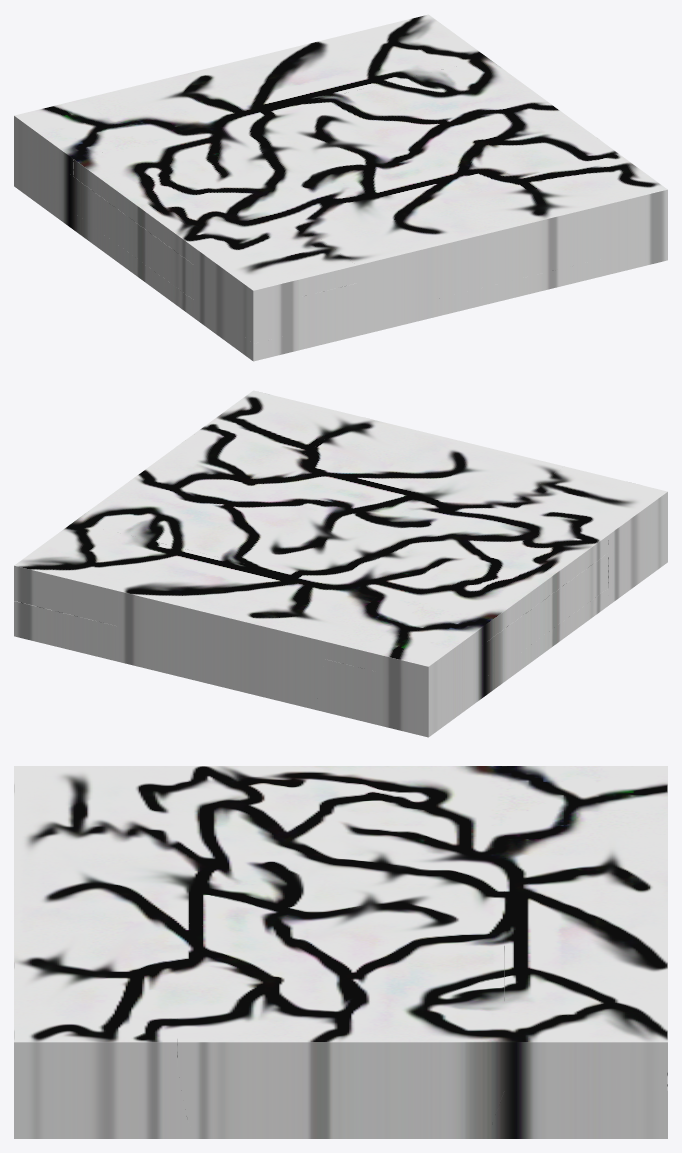
The model's file is CRACK2-splited.fbx.
The picture shows the model from 3 angles, top to bottom: view 1: azimuth 30°, elevation 25°; view 2: azimuth 150°, elevation 25°; view 3: azimuth 270°, elevation 25°; orthographic projection. The views are drawn at different scales.
Visible parts, largest first — view 1: Plane.016_cell.025, Plane.016_cell.030, Plane.016_cell.035, Plane.016_cell.033, Plane.016_cell.038, Plane.016_cell.024, Plane.016_cell.027, Plane.016_cell.028, Plane.016_cell.021, Plane.016_cell.039, Plane.016_cell.036, Plane.016_cell.037 (+7 smaller); view 2: Plane.016_cell.033, Plane.016_cell.025, Plane.016_cell.035, Plane.016_cell.030, Plane.016_cell.038, Plane.016_cell.039, Plane.016_cell.021, Plane.016_cell.024, Plane.016_cell.027, Plane.016_cell.029, Plane.016_cell.037, Plane.016_cell.023 (+4 smaller); view 3: Plane.016_cell.038, Plane.016_cell.025, Plane.016_cell.033, Plane.016_cell.030, Plane.016_cell.035, Plane.016_cell.039, Plane.016_cell.027, Plane.016_cell.021, Plane.016_cell.024, Plane.016_cell.023, Plane.016_cell.026, Plane.016_cell.032.
Part boxes in pixels (bbox=[...]): Plane.016_cell.025: bbox=[177, 83, 503, 221]; Plane.016_cell.030: bbox=[297, 171, 564, 282]; Plane.016_cell.035: bbox=[74, 134, 296, 264]; Plane.016_cell.033: bbox=[118, 40, 384, 133]; Plane.016_cell.038: bbox=[385, 58, 607, 170]; Plane.016_cell.024: bbox=[193, 222, 356, 308]; Plane.016_cell.027: bbox=[504, 146, 667, 232]; Plane.016_cell.028: bbox=[357, 233, 564, 318]; Plane.016_cell.021: bbox=[14, 90, 176, 176]; Plane.016_cell.039: bbox=[325, 14, 487, 83]; Plane.016_cell.036: bbox=[193, 265, 356, 343]; Plane.016_cell.037: bbox=[73, 177, 193, 299]; Plane.016_cell.033: bbox=[117, 547, 384, 709]; Plane.016_cell.025: bbox=[178, 459, 504, 597]; Plane.016_cell.035: bbox=[385, 510, 608, 640]; Plane.016_cell.030: bbox=[297, 416, 563, 509]; Plane.016_cell.038: bbox=[74, 434, 296, 546]; Plane.016_cell.039: bbox=[14, 522, 176, 626]; Plane.016_cell.021: bbox=[325, 598, 488, 684]; Plane.016_cell.024: bbox=[505, 466, 667, 552]; Plane.016_cell.027: bbox=[194, 390, 356, 459]; Plane.016_cell.029: bbox=[319, 641, 488, 719]; Plane.016_cell.037: bbox=[488, 553, 607, 675]; Plane.016_cell.023: bbox=[14, 601, 128, 664]; Plane.016_cell.038: bbox=[177, 973, 504, 1138]; Plane.016_cell.025: bbox=[177, 835, 504, 973]; Plane.016_cell.033: bbox=[504, 835, 667, 996]; Plane.016_cell.030: bbox=[14, 835, 177, 973]; Plane.016_cell.035: bbox=[177, 766, 504, 834]; Plane.016_cell.039: bbox=[504, 973, 667, 1090]; Plane.016_cell.027: bbox=[14, 973, 177, 1066]; Plane.016_cell.021: bbox=[504, 766, 667, 834]; Plane.016_cell.024: bbox=[14, 766, 177, 834]; Plane.016_cell.023: bbox=[487, 1073, 667, 1138]; Plane.016_cell.026: bbox=[14, 1055, 185, 1114]; Plane.016_cell.032: bbox=[14, 1115, 194, 1138].
Size of the model in its own units: 200 by 32.59 by 200.
